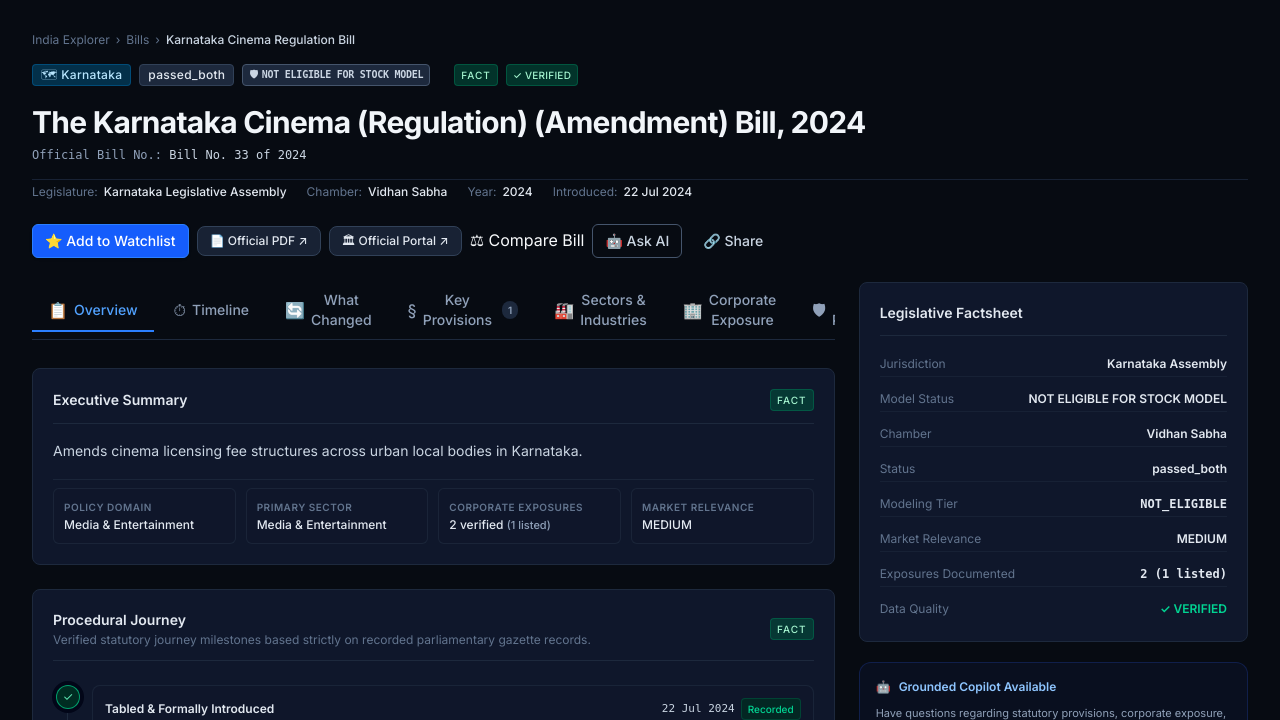
BillDetailContent — Production Dossier › 6. No-exposure state renders informative message
The image size is (1280, 720).
Expected: the heading "The Karnataka Cinema (Regulation) (Amendment) Bill, 2024" is shown, [32, 102, 866, 143]
Click the tab "🏢 Corporate Exposure" at (730, 311), box [667, 282, 792, 340]
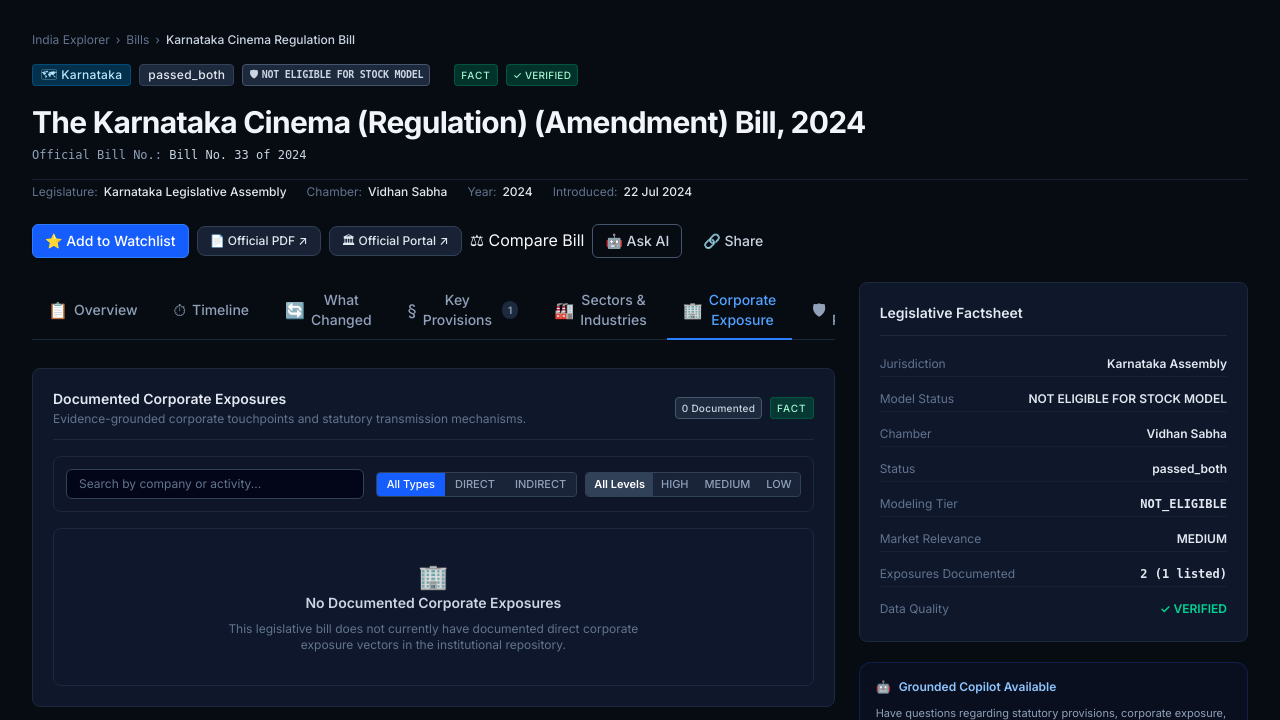
Expected: the heading "No Documented Corporate Exposures" is shown, [305, 594, 561, 611]
